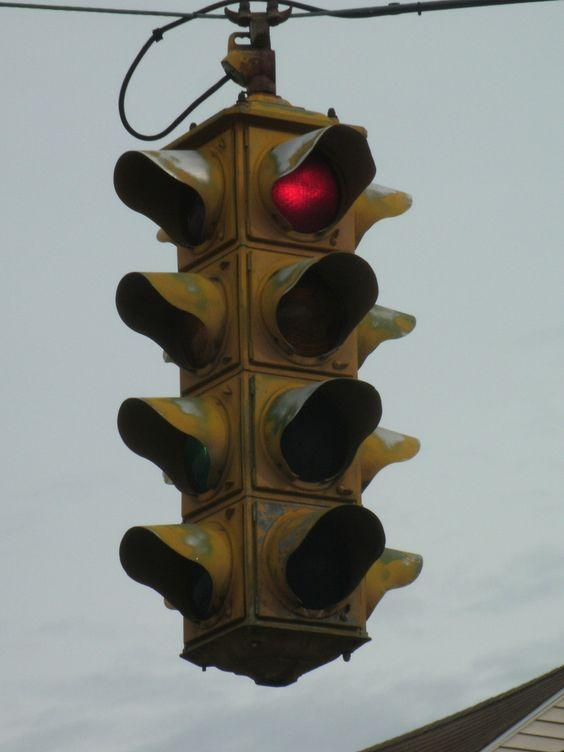red: (204, 100, 394, 640)
